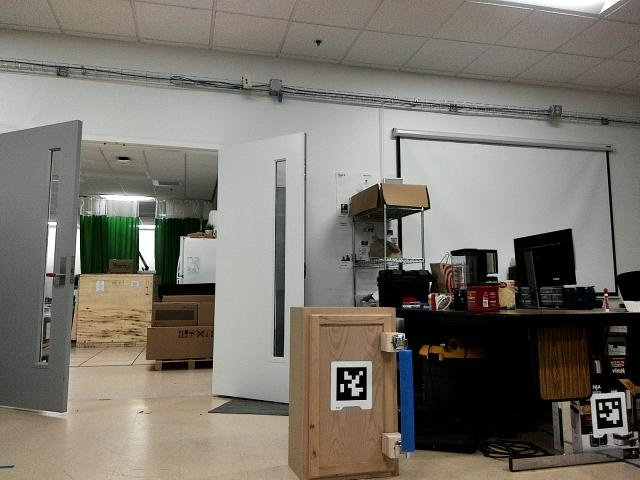noodle_handle: (393, 343, 419, 456)
